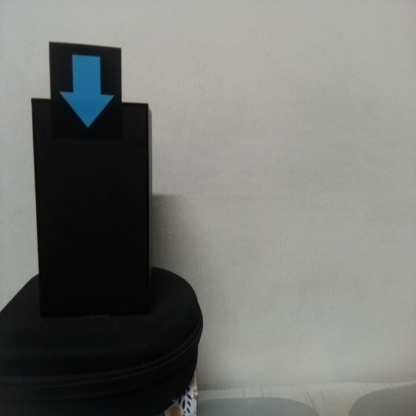id_2: (49, 42, 122, 142)
